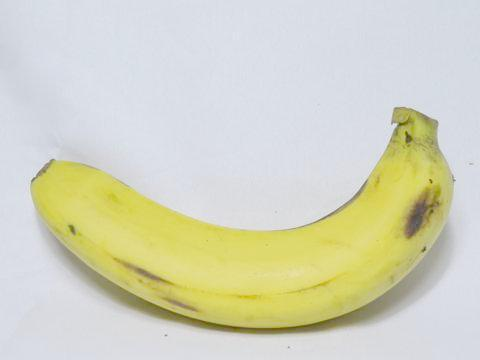freshripe: (21, 98, 473, 346)
